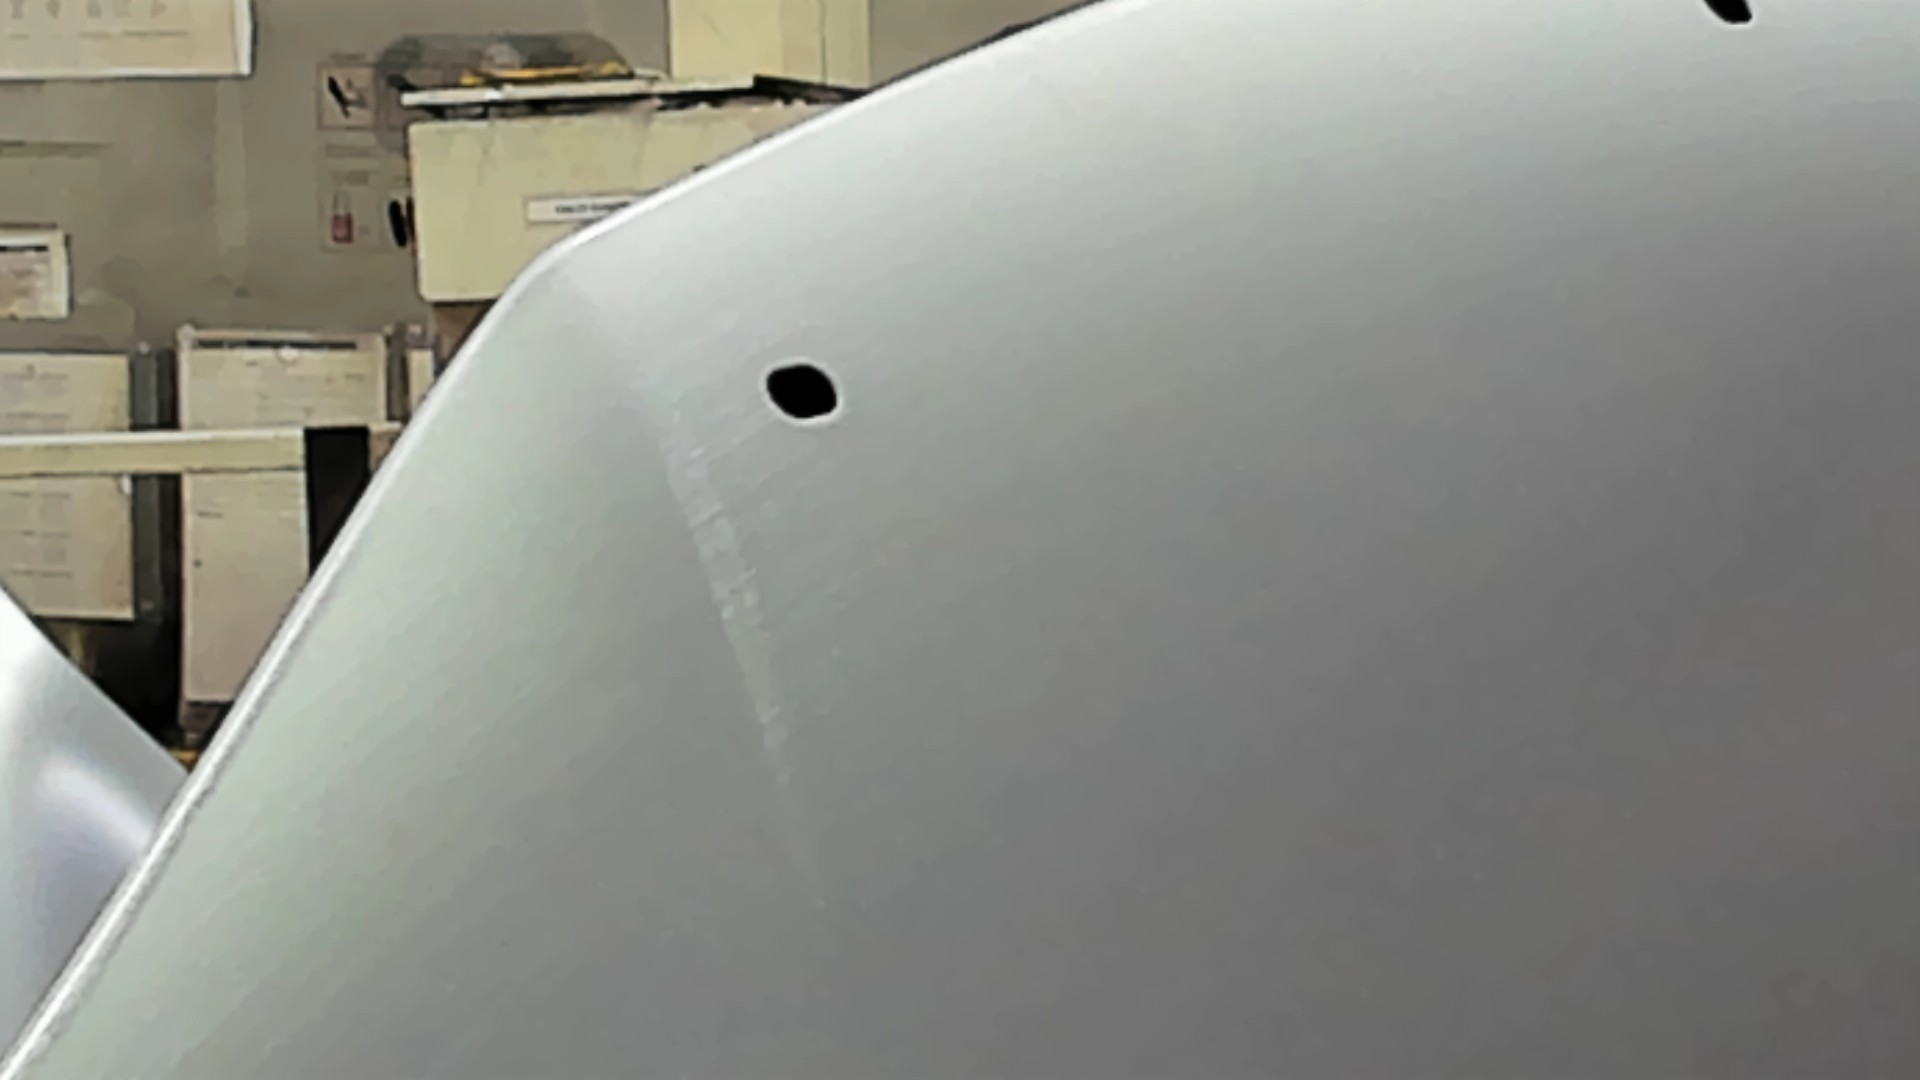amorfo: (754, 353, 851, 429), (1700, 1, 1763, 32)
capo: (951, 88, 1920, 1080)
